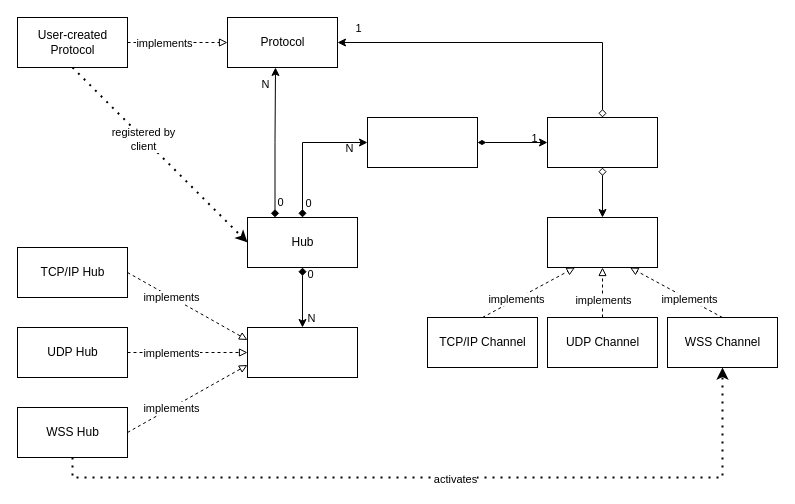
Some shapes in this 795 by 504 pixel diagram are drawn without their labels. Here are the shapes that lost their labels. From the top down, the centre of each, then its label:
At point (422, 142): "ProtocolConnection".
At point (602, 142): "Protocol Orchestrator".
At point (602, 242): "ProtocolChannel".
At point (302, 352): "TransportHub".
